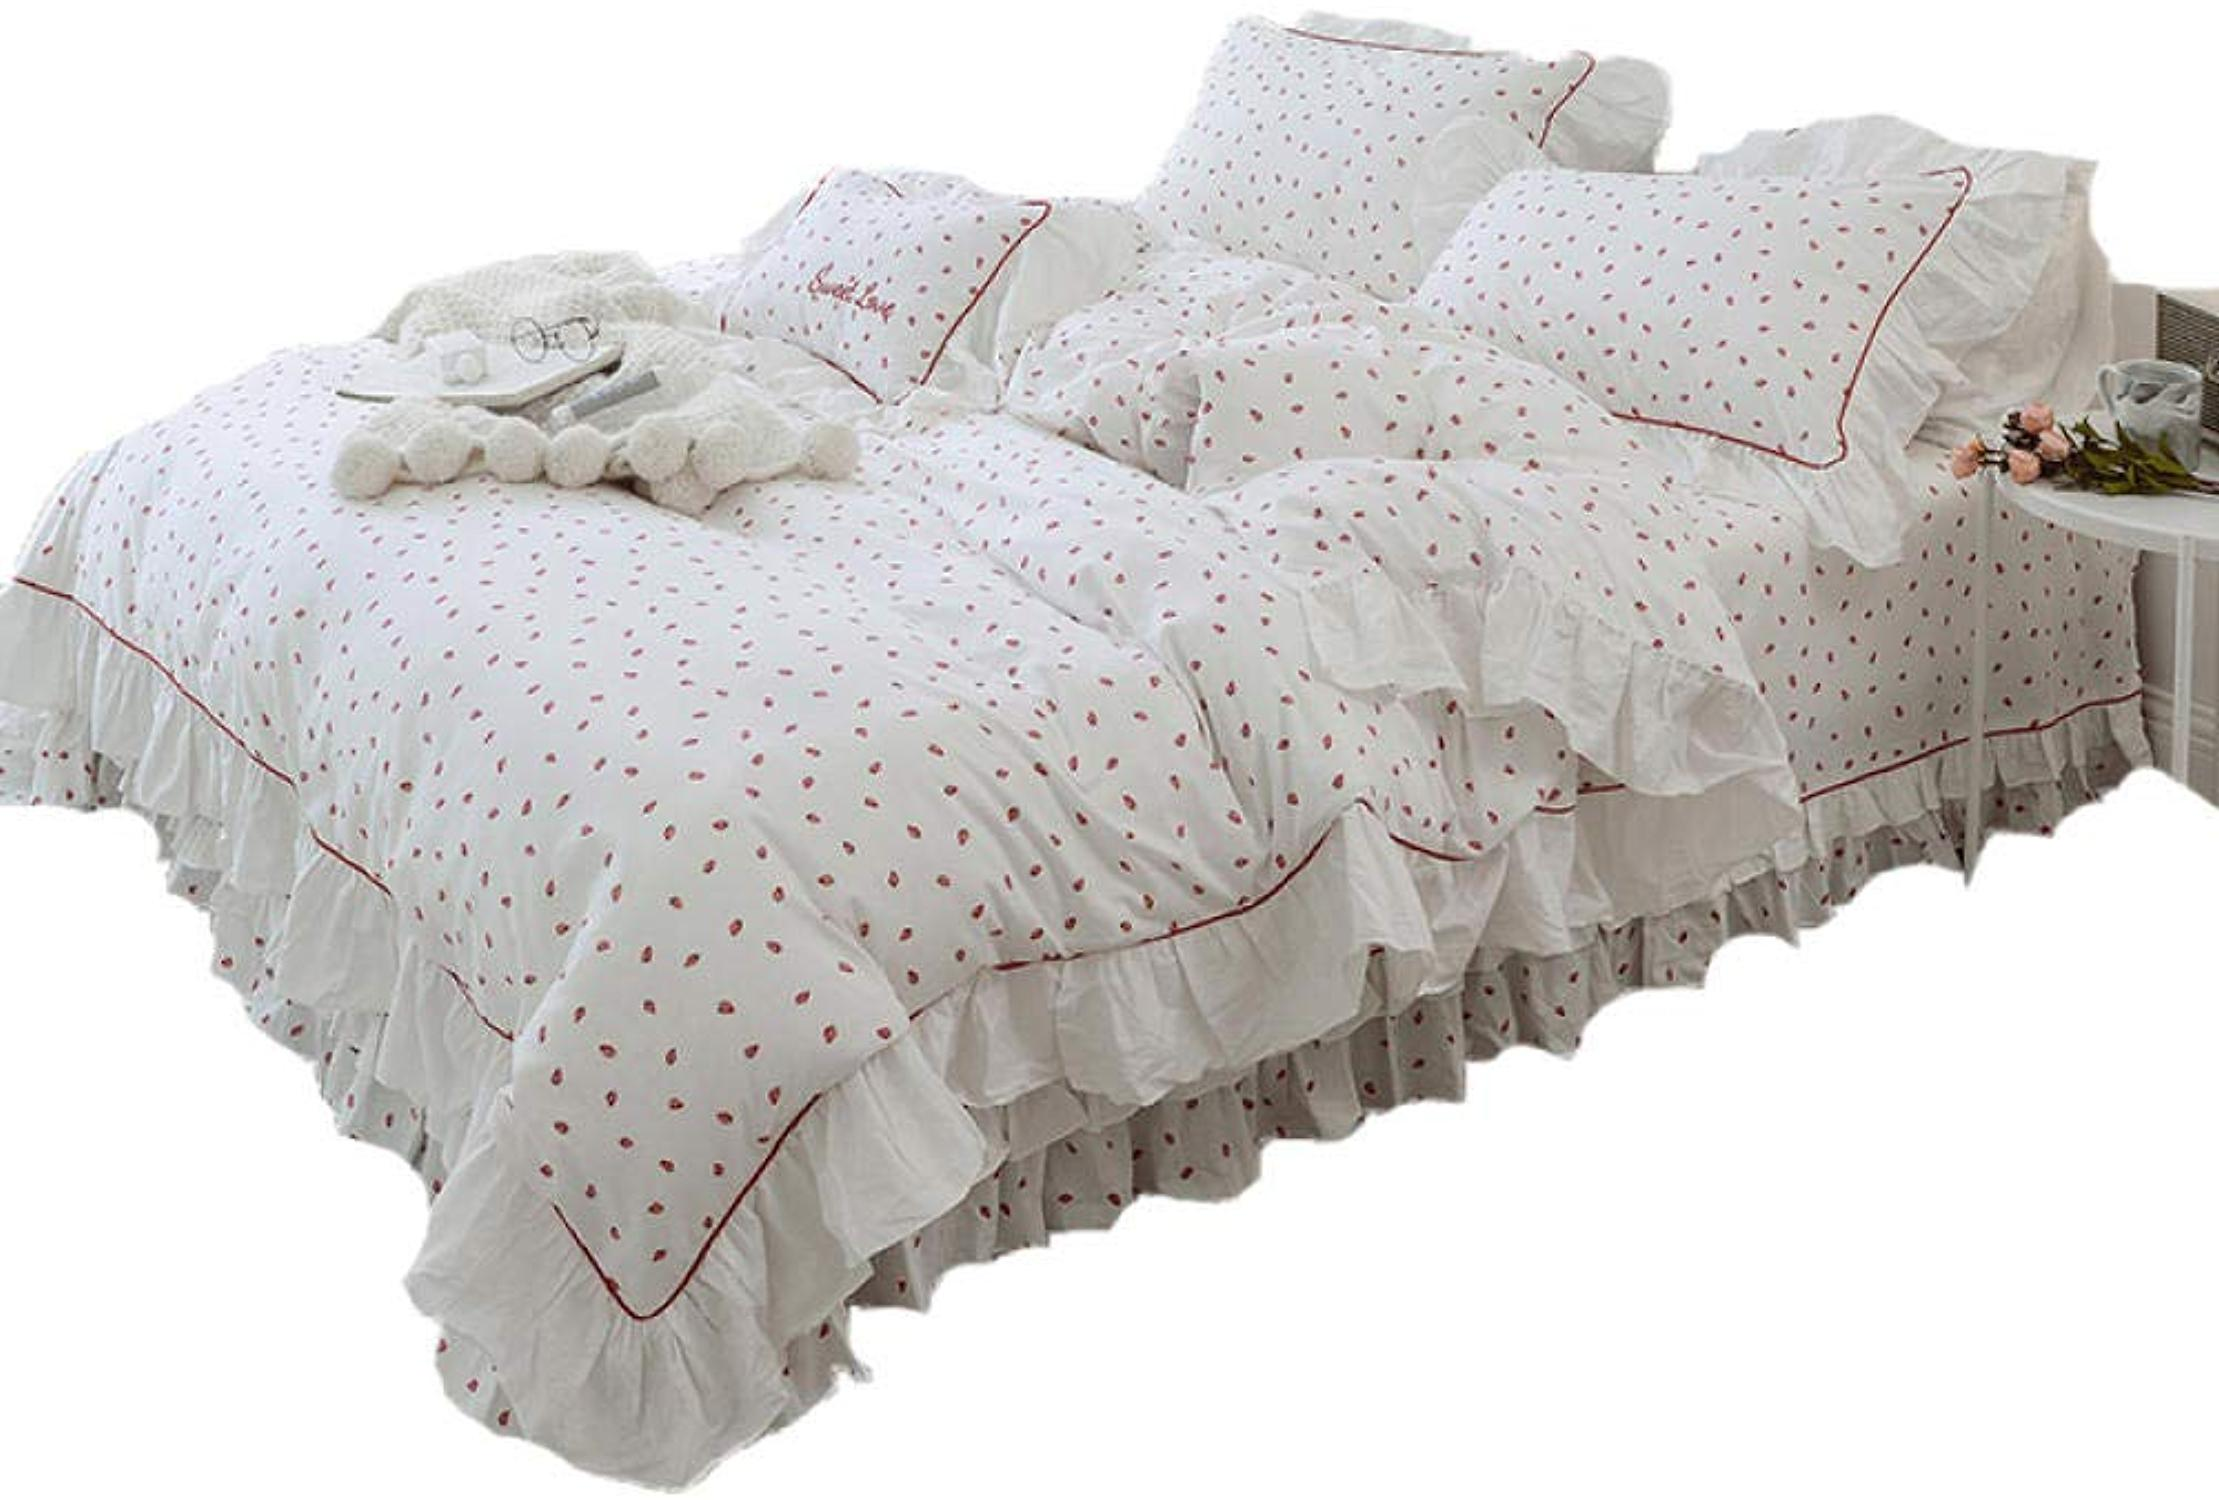bed: (84, 196, 2197, 1133)
